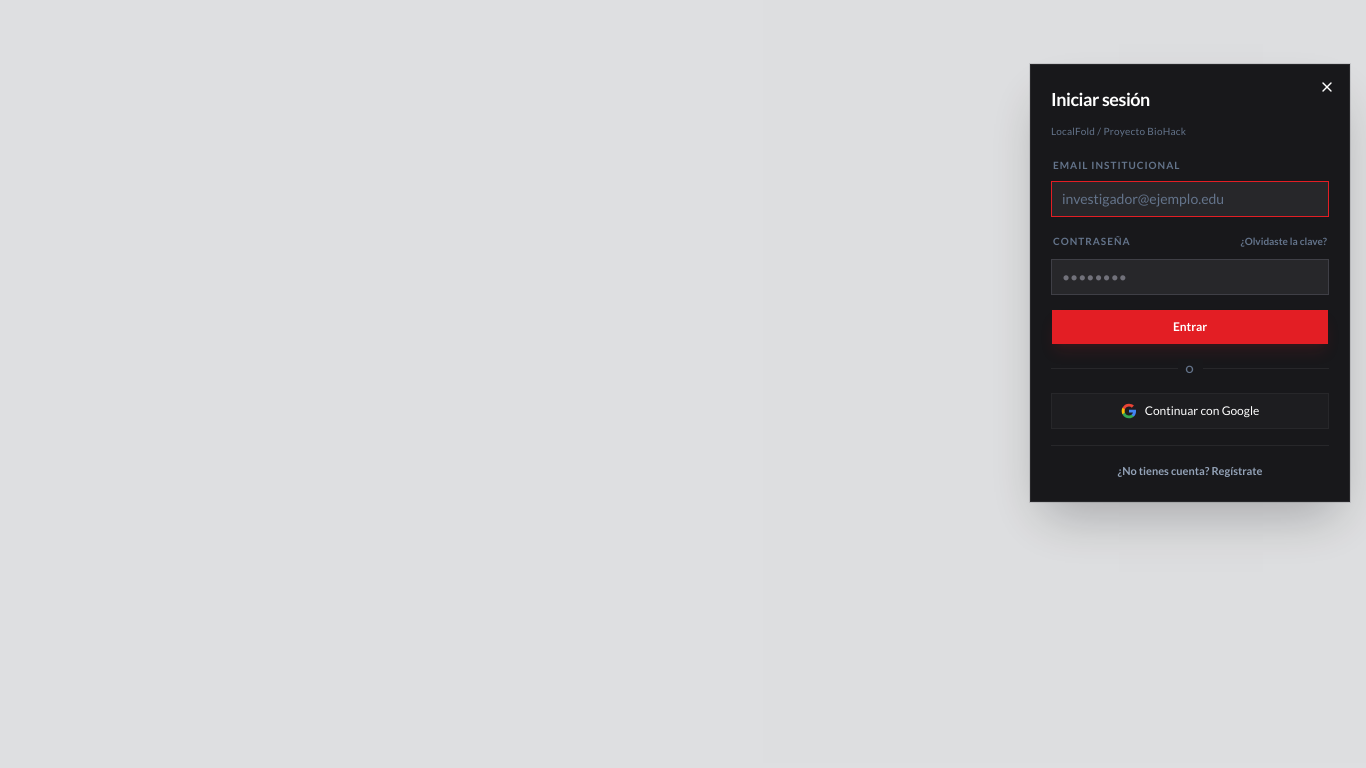
Test: AuthDialog › switches to recovery mode
The width and height of the screenshot is (1366, 768).
Click the button "¿Olvidaste la clave?".
click(1284, 240)  # box [1240,230,1327,250]
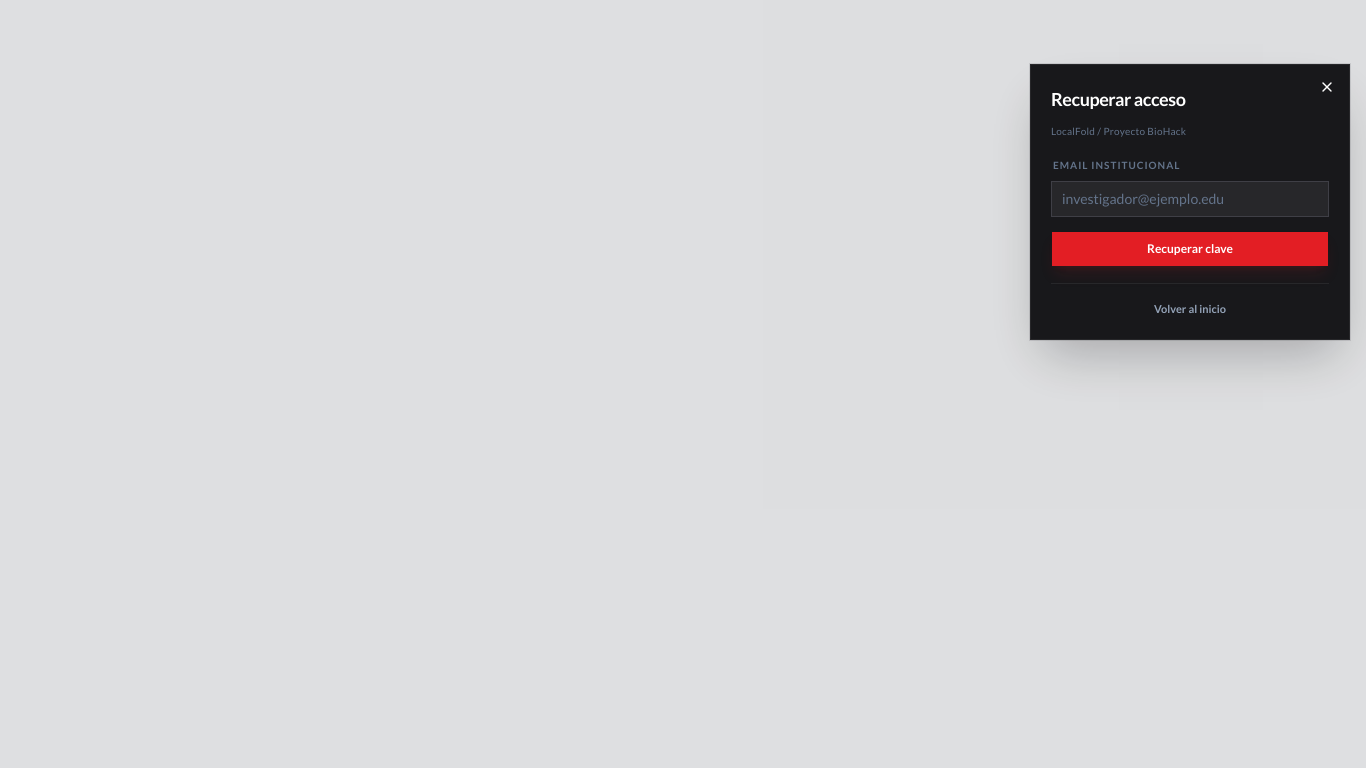
Now the heading "Recuperar acceso" is shown, box [1051,88,1186,110]
Now the label labelled "Contraseña" is gone
